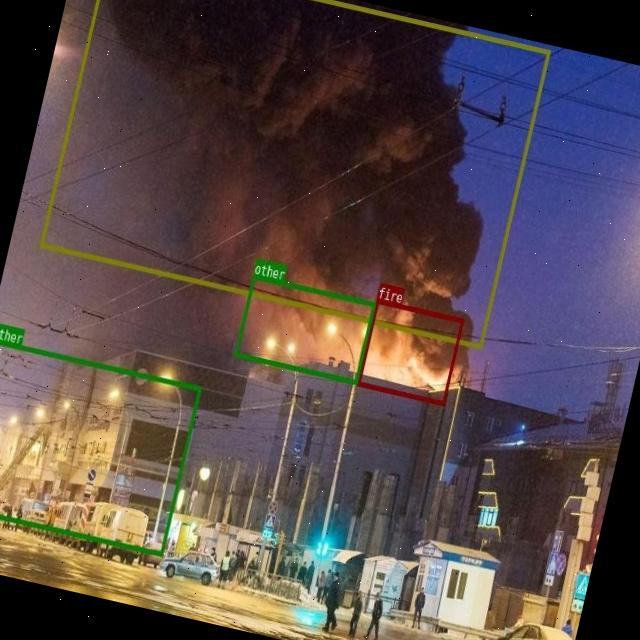fire: (356, 298, 464, 405)
smoke: (38, 0, 549, 348)
